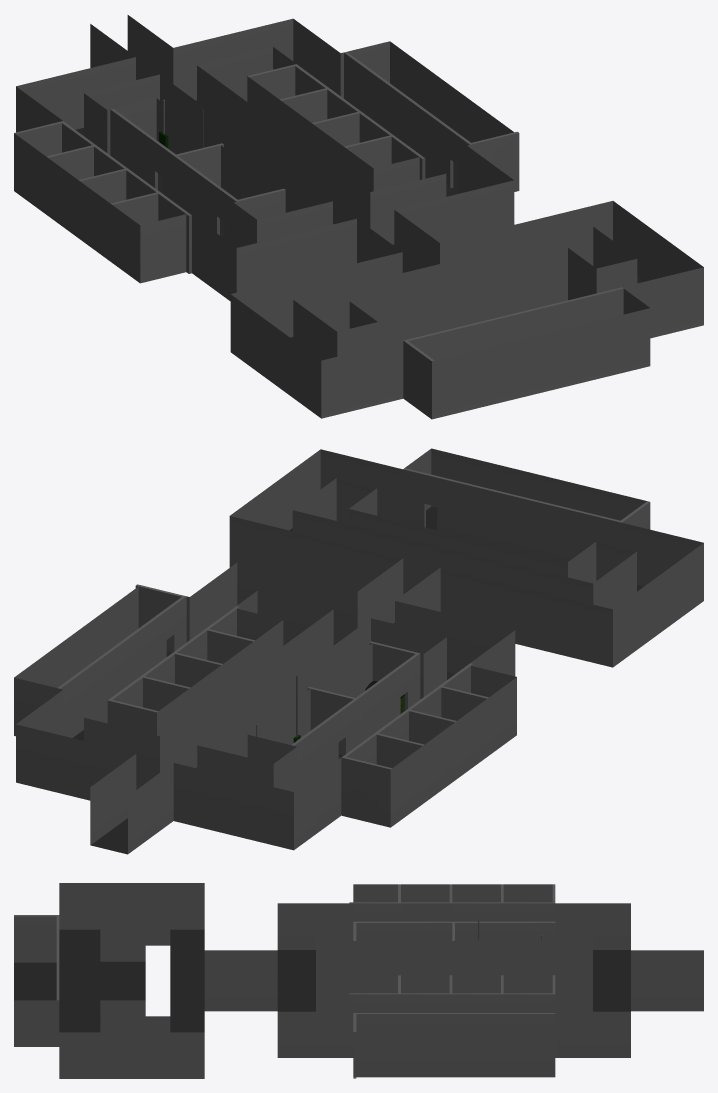
File: roughLVL5.fbx
3 renders of one model, top to bottom at view 1: azimuth 30°, elevation 25°; view 2: azimuth 150°, elevation 25°; view 3: azimuth 270°, elevation 25°, orthographic. The views are drawn at different scales.
Parts seen in each view (by area): view 1: hall2Wall, hall1Walls, hall1SubWalls, RoomWall.021, RoomWall.020, RoomWall.013, RoomWall.014, RoomWall.009, RoomWall.015, roomWall.001, RoomWall.019, RoomWall.011 (+3 smaller); view 2: hall1Walls, hall2Wall, hall1SubWalls, RoomWall.021, RoomWall.020, RoomWall.013, RoomWall.014, RoomWall.012, RoomWall.019, roomWall.001, RoomWall.016, RoomWall.011 (+4 smaller); view 3: hall1Walls, hall2Wall, hall2Floor, hall1SubWalls, hall1Floor, RoomWall.020, RoomWall.021, RoomWall.013, RoomWall.014, RoomWall.012, RoomWall.019, roomWall.001 (+5 smaller).
Boxes of the visible parts, x1,y1,x2,y2 form: hall2Wall: (230,201,703,419); hall1Walls: (16,15,516,301); hall1SubWalls: (14,93,282,288); RoomWall.021: (403,287,623,418); RoomWall.020: (344,52,519,193); RoomWall.013: (110,108,223,202); RoomWall.014: (175,156,285,245); RoomWall.009: (111,191,191,273); RoomWall.015: (344,135,425,179); roomWall.001: (78,168,158,203); RoomWall.019: (248,64,328,99); RoomWall.011: (46,144,126,179); hall1Walls: (14,558,515,853); hall2Wall: (229,448,703,667); hall1SubWalls: (247,637,516,832); RoomWall.021: (403,468,650,562); RoomWall.020: (57,584,186,737); RoomWall.013: (291,686,358,789); RoomWall.014: (356,641,420,744); RoomWall.012: (341,734,391,827); RoomWall.019: (107,677,158,734); roomWall.001: (406,686,456,744); RoomWall.016: (172,629,222,687); RoomWall.011: (374,710,423,768); hall1Walls: (204,903,703,1077); hall2Wall: (14,883,204,1078); hall2Floor: (14,929,204,1032); hall1SubWalls: (316,884,592,950); hall1Floor: (277,950,630,1011); RoomWall.020: (353,1013,555,1078); RoomWall.021: (14,915,59,1000); RoomWall.013: (452,921,555,940); RoomWall.014: (353,921,452,940); RoomWall.012: (503,884,555,921); RoomWall.019: (503,975,555,1012); roomWall.001: (401,884,452,921).
Bounding box in the file's own units: 3040 × 623 × 5939.
1 material, 1 textured.
